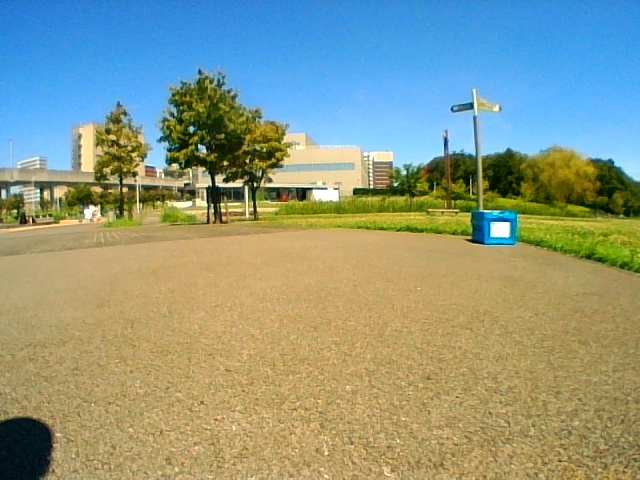blue_box: (471, 210, 517, 244)
tag: (490, 222, 509, 237)
